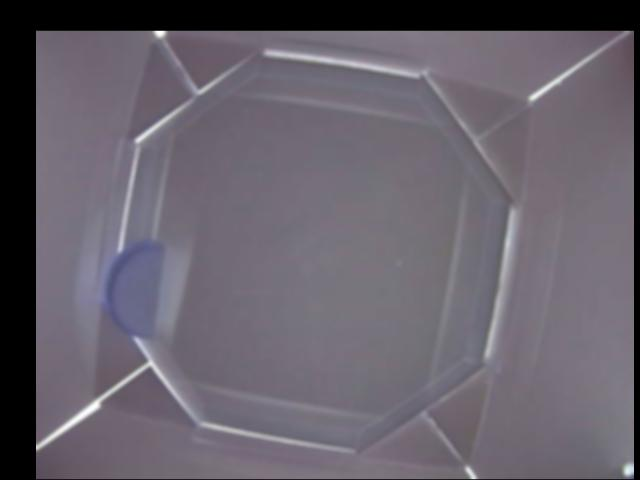Mooli: (101, 240, 164, 336)
